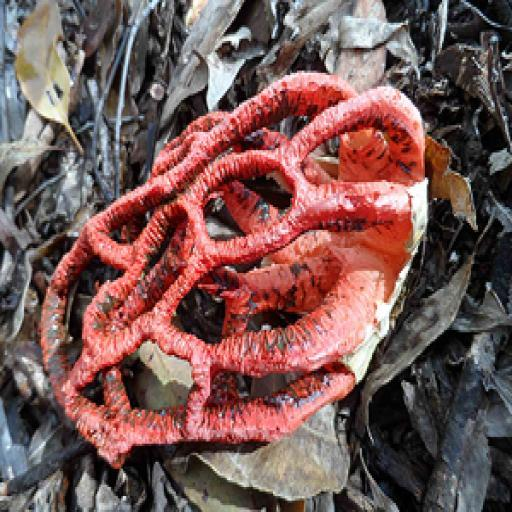mushroom: (39, 70, 428, 452)
